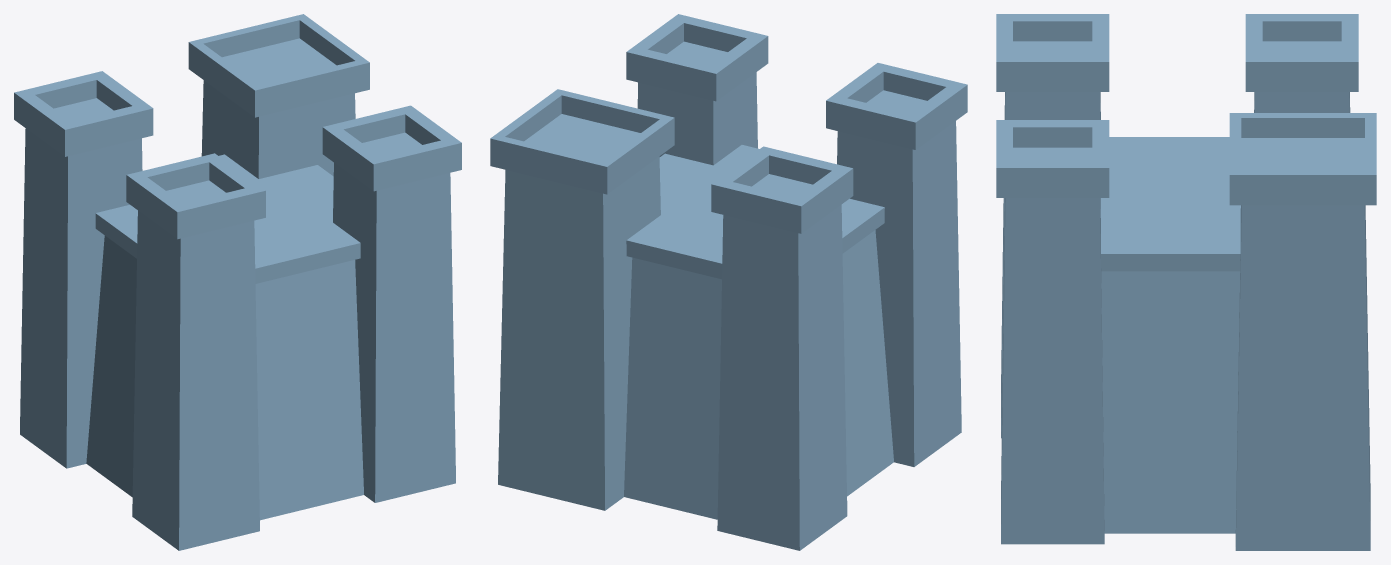
File: Castle.fbx
The picture shows the model from 3 angles, left to right: view 1: azimuth 30°, elevation 25°; view 2: azimuth 150°, elevation 25°; view 3: azimuth 270°, elevation 25°; orthographic projection. The views are drawn at different scales.
Parts seen in each view (by area): view 1: Plane.004; view 2: Plane.004; view 3: Plane.004.
Part boxes in pixels (x1,y1,x2,y2): Plane.004: (14,14,461,550); Plane.004: (490,14,967,550); Plane.004: (996,14,1376,550).
Bounding box in the file's own units: 6.06 × 6.64 × 6.05.
